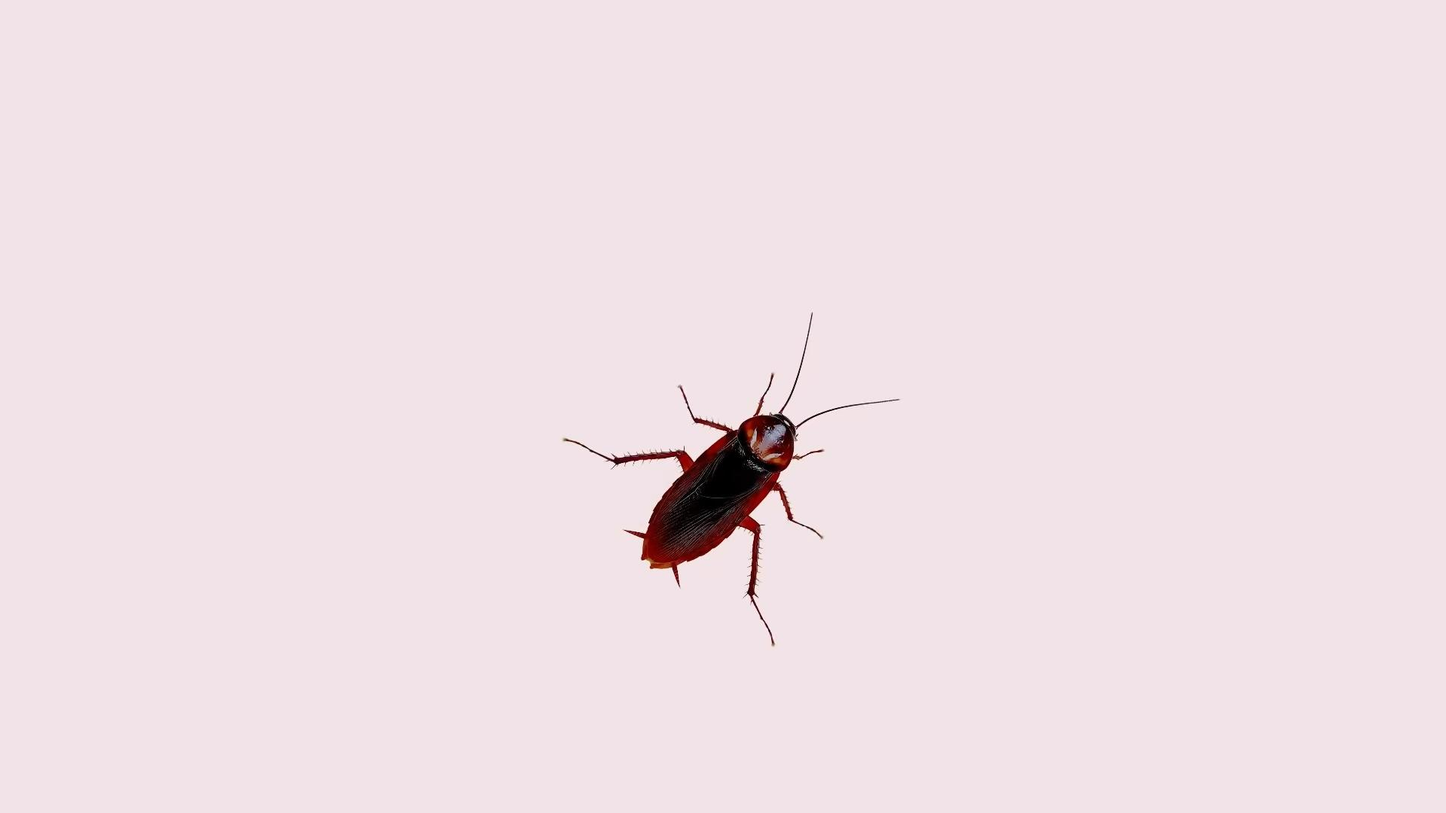cockroach: (563, 304, 877, 658)
